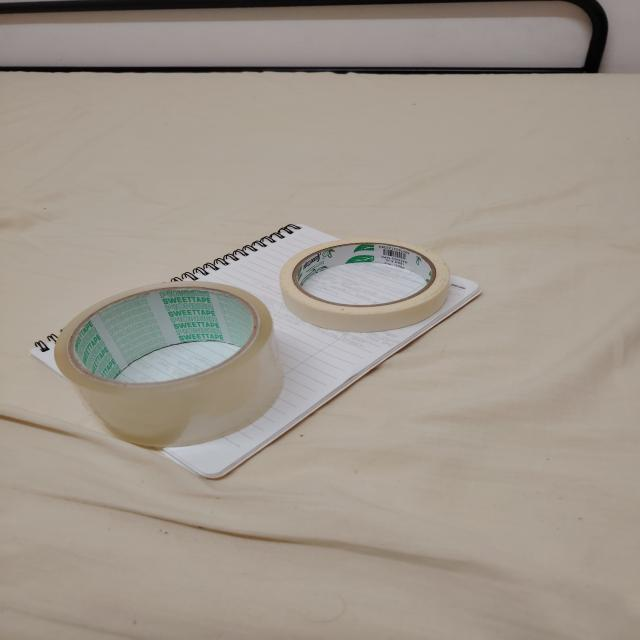tape: (55, 282, 284, 447), (280, 237, 449, 332)
